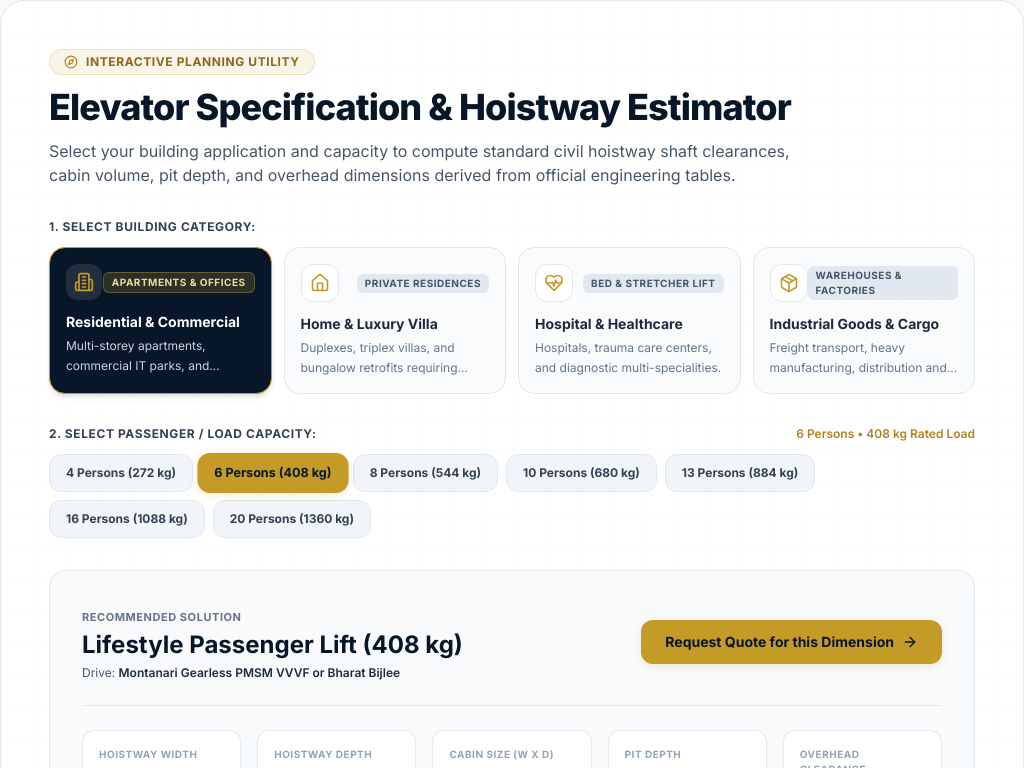
Test: HoistwayCalculator Component › switches category to Home & Luxury Villa and updates drive and dimensions
Click the button "Home & Luxury Villa" at (395, 320), box [284, 247, 506, 394]
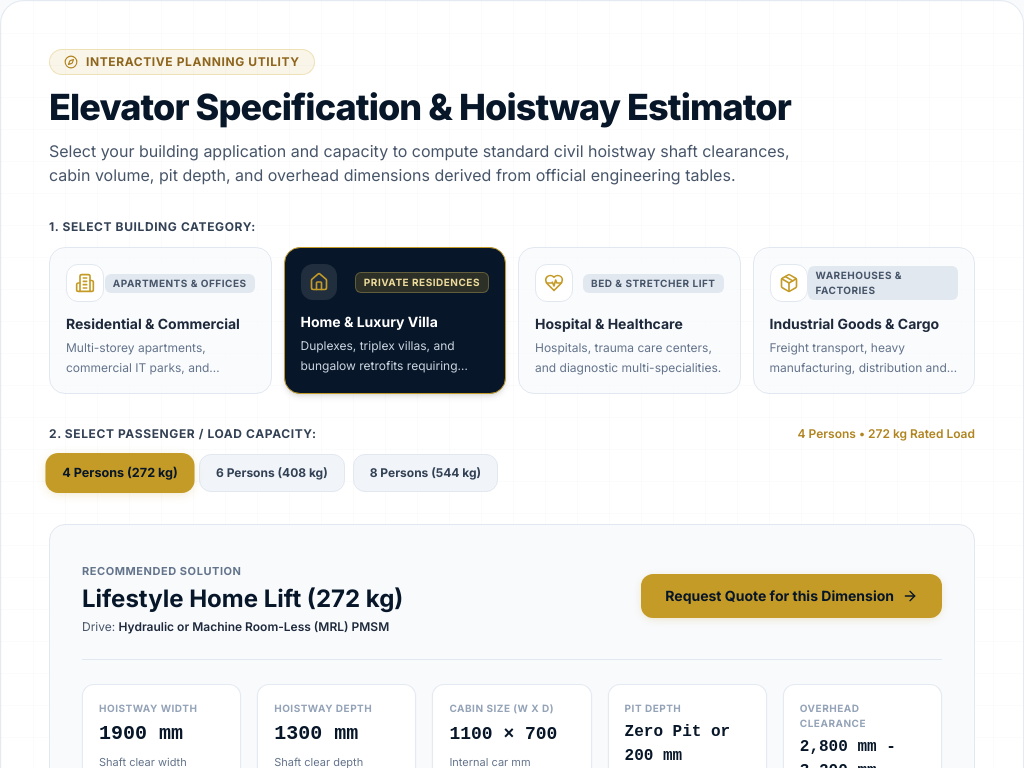
Expected: the heading "Lifestyle Home Lift (272 kg)" is shown, [82, 583, 403, 615]
Expected: the text "Zero Pit or 200 mm" is shown, [625, 723, 730, 765]
